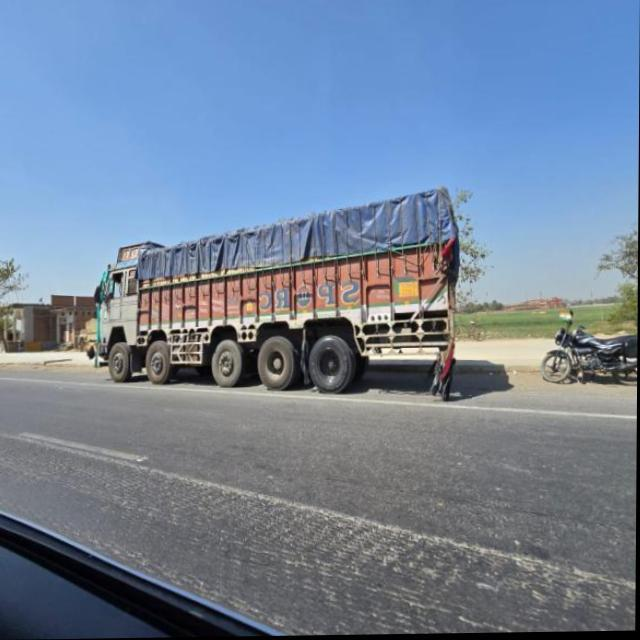covered: (132, 180, 460, 389)
